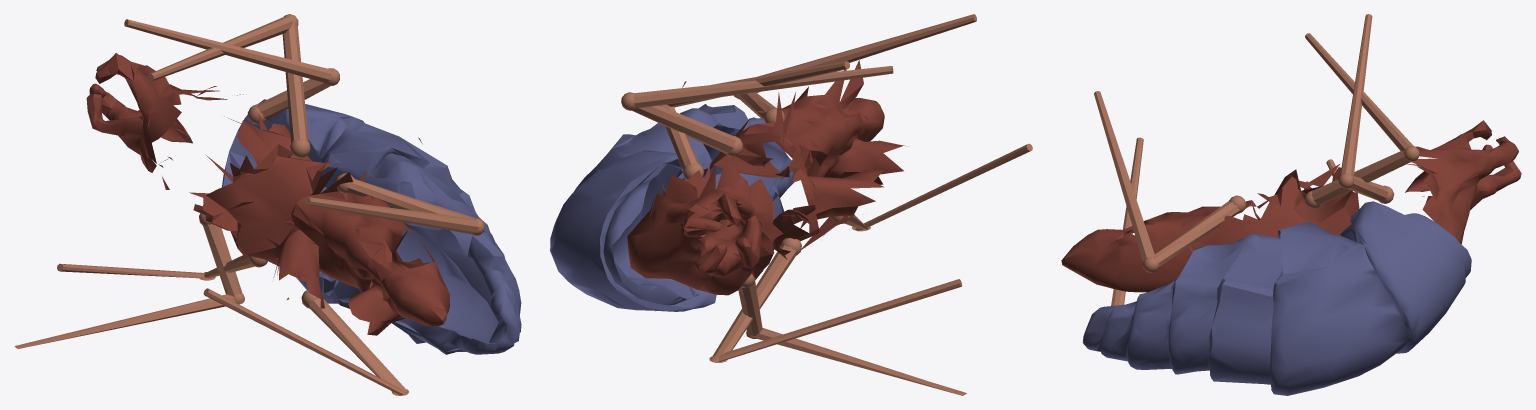
File: big-biter-corpse-3.glb
The picture shows the model from 3 angles, left to right: view 1: azimuth 30°, elevation 25°; view 2: azimuth 150°, elevation 25°; view 3: azimuth 270°, elevation 25°; orthographic projection. The views are drawn at different scales.
Parts seen in each view (by area): view 1: body; view 2: body; view 3: body.
Part boxes in pixels (x1=…): body: x1=14, y1=14, x2=521, y2=395; body: x1=550, y1=14, x2=1032, y2=395; body: x1=1061, y1=14, x2=1521, y2=395.
Bounding box in the file's own units: 3.32 × 2.27 × 3.57.
